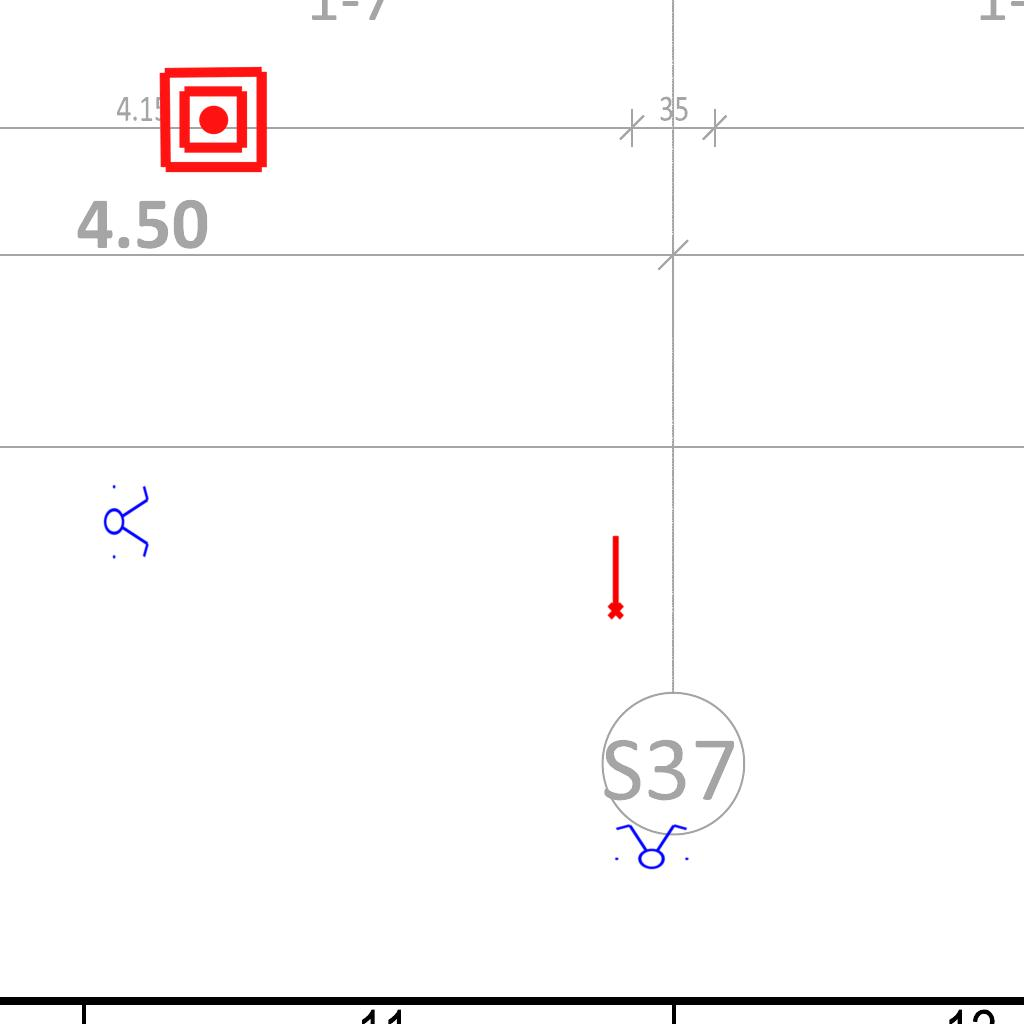ASR_Ansaugoeffnung: (603, 533, 626, 621)
NAM-Nichtautomatischer_Melder: (157, 63, 270, 176)
Serienschalter: (609, 822, 693, 870), (103, 479, 151, 563)
